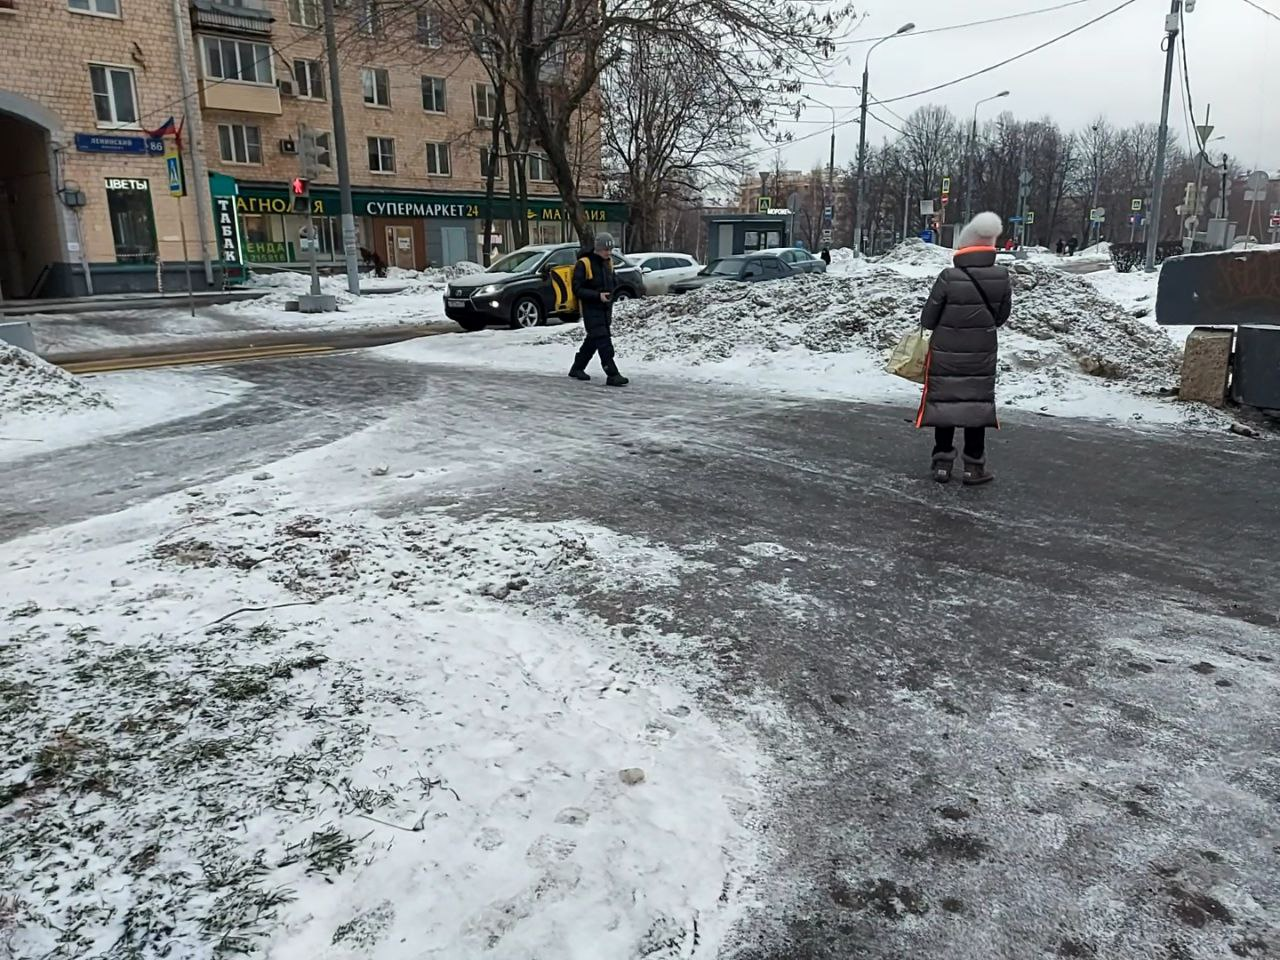sombie: (536, 228, 644, 396)
